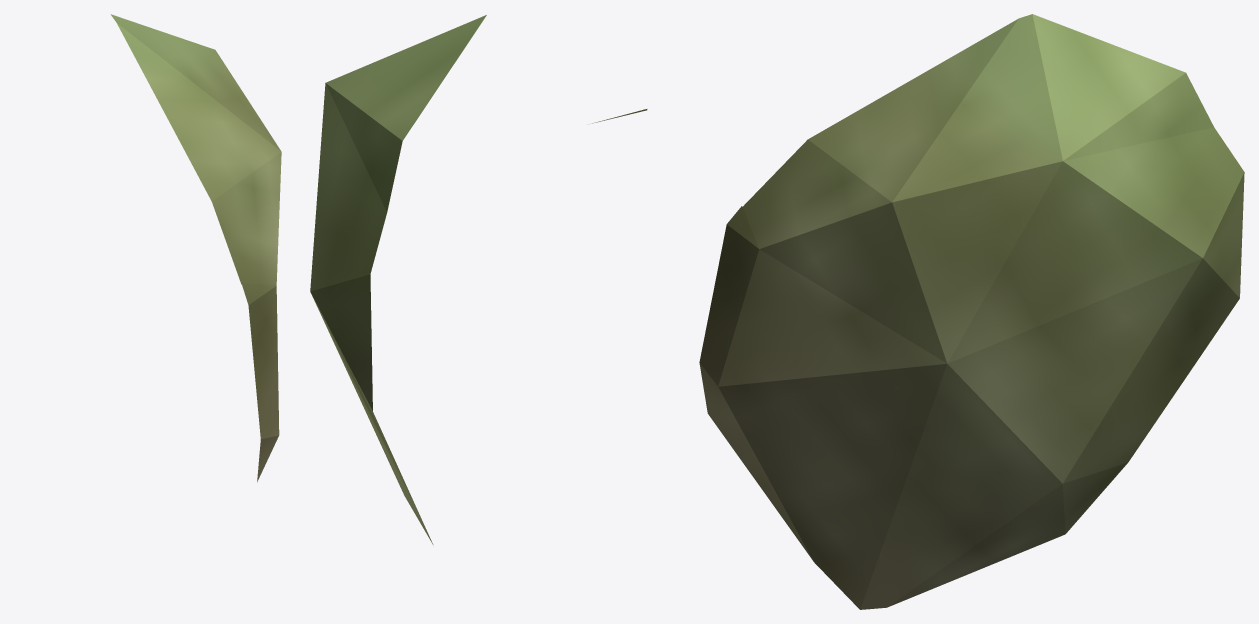
3 renders of one model, left to right at view 1: azimuth 30°, elevation 25°; view 2: azimuth 150°, elevation 25°; view 3: azimuth 270°, elevation 25°, orthographic. The views are drawn at different scales.
Size of the model in its own units: 0.1091 by 0.4716 by 0.3909.
1 material, 1 textured.
